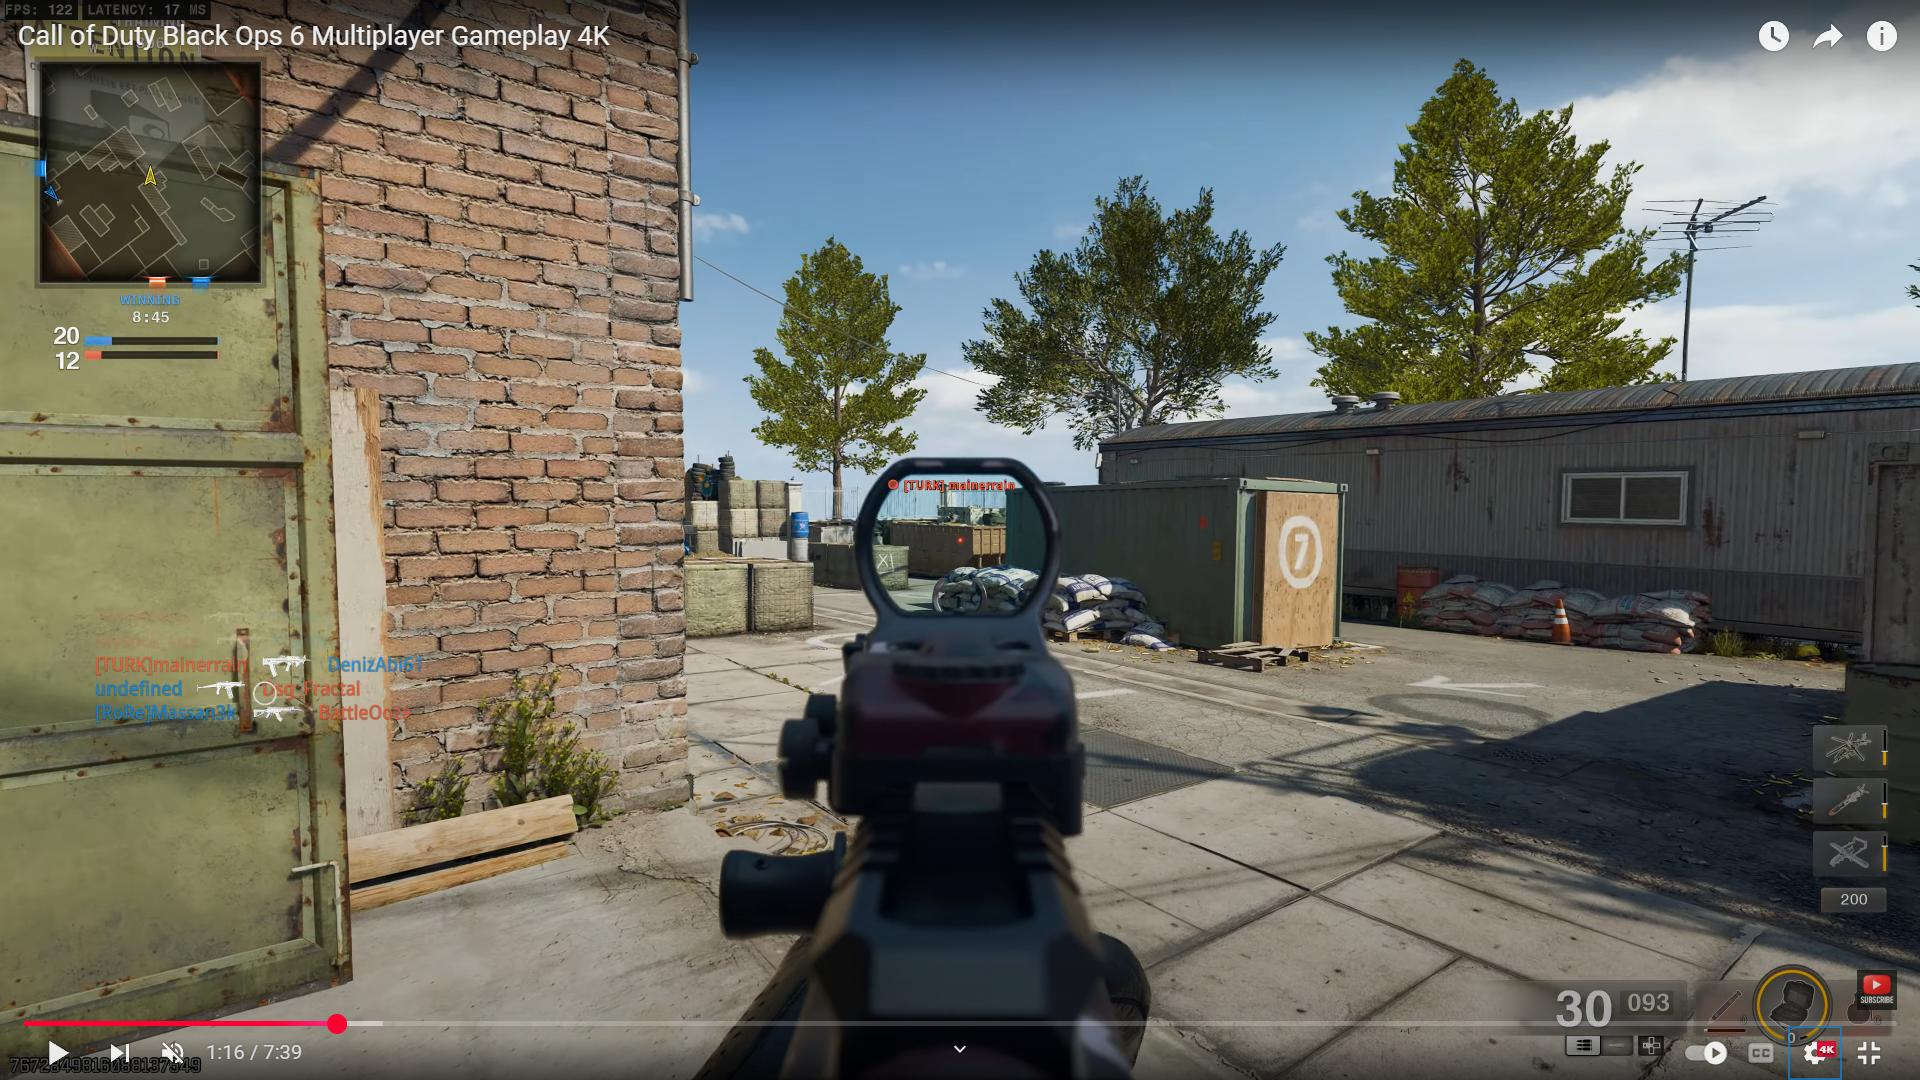Enemy: (902, 469, 993, 529)
